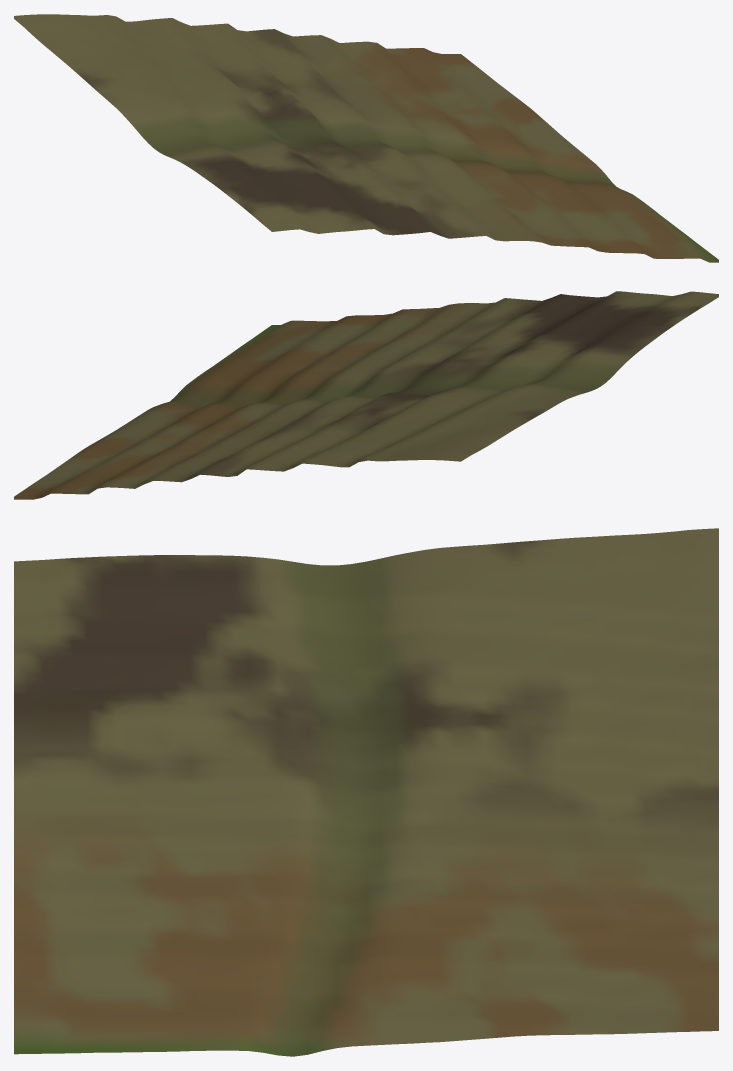
File: land_m_06_04.glb
3 renders of one model, top to bottom at view 1: azimuth 30°, elevation 25°; view 2: azimuth 150°, elevation 25°; view 3: azimuth 270°, elevation 25°, orthographic. The views are drawn at different scales.
Visible parts, largest first — view 1: land_m_06_04; view 2: land_m_06_04; view 3: land_m_06_04.
Boxes of the visible parts, x1,y1,x2,y2 form: land_m_06_04: [14, 14, 718, 262]; land_m_06_04: [14, 291, 718, 499]; land_m_06_04: [14, 528, 718, 1056].
Bounding box in the file's own units: 960 × 346 × 960.
